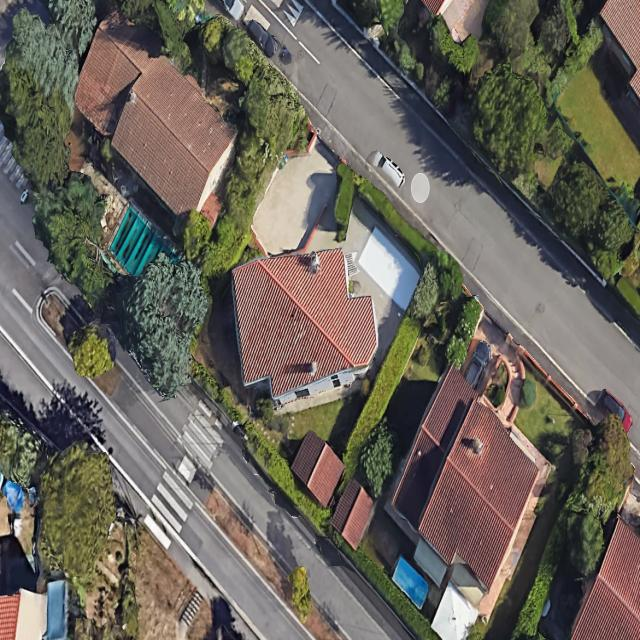maison: (43, 2, 274, 239), (365, 362, 561, 617), (224, 241, 387, 412)
